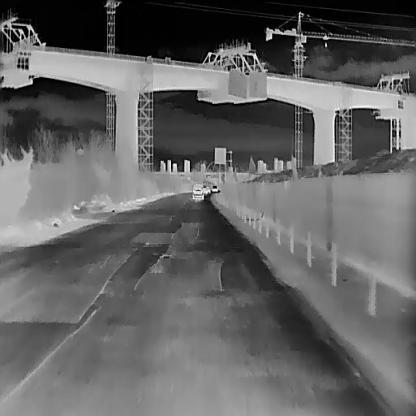car: (193, 184, 204, 200), (204, 186, 210, 193), (212, 185, 217, 191)
